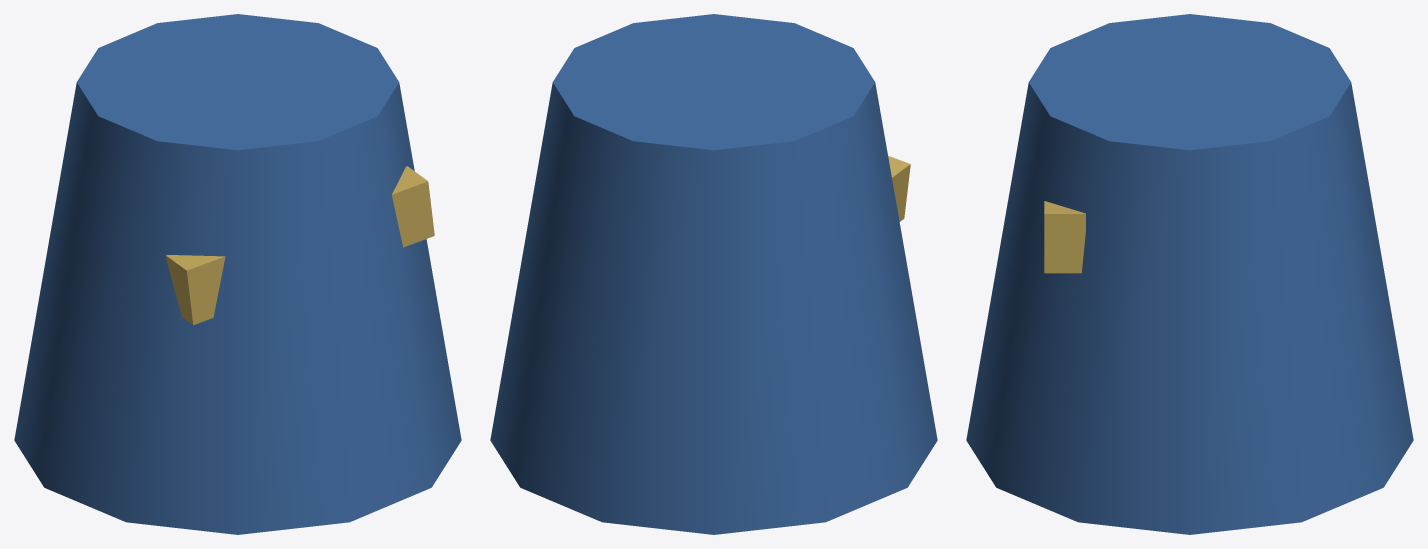
Rendered from scout_outfit.glb.
3 views of the same model, side by side, from view 1: azimuth 30°, elevation 25°; view 2: azimuth 150°, elevation 25°; view 3: azimuth 270°, elevation 25° (orthographic).
Visible parts, largest first — view 1: outfit_torso, outfit_trim; view 2: outfit_torso, outfit_trim; view 3: outfit_torso, outfit_trim.
Boxes of the visible parts, <box> form: outfit_torso: <box>14,14,461,534</box>; outfit_trim: <box>166,166,434,325</box>; outfit_torso: <box>490,14,937,534</box>; outfit_trim: <box>888,156,910,221</box>; outfit_torso: <box>966,14,1413,534</box>; outfit_trim: <box>1044,201,1085,273</box>.
Size of the model in its own units: 0.86 by 0.76 by 0.86.
